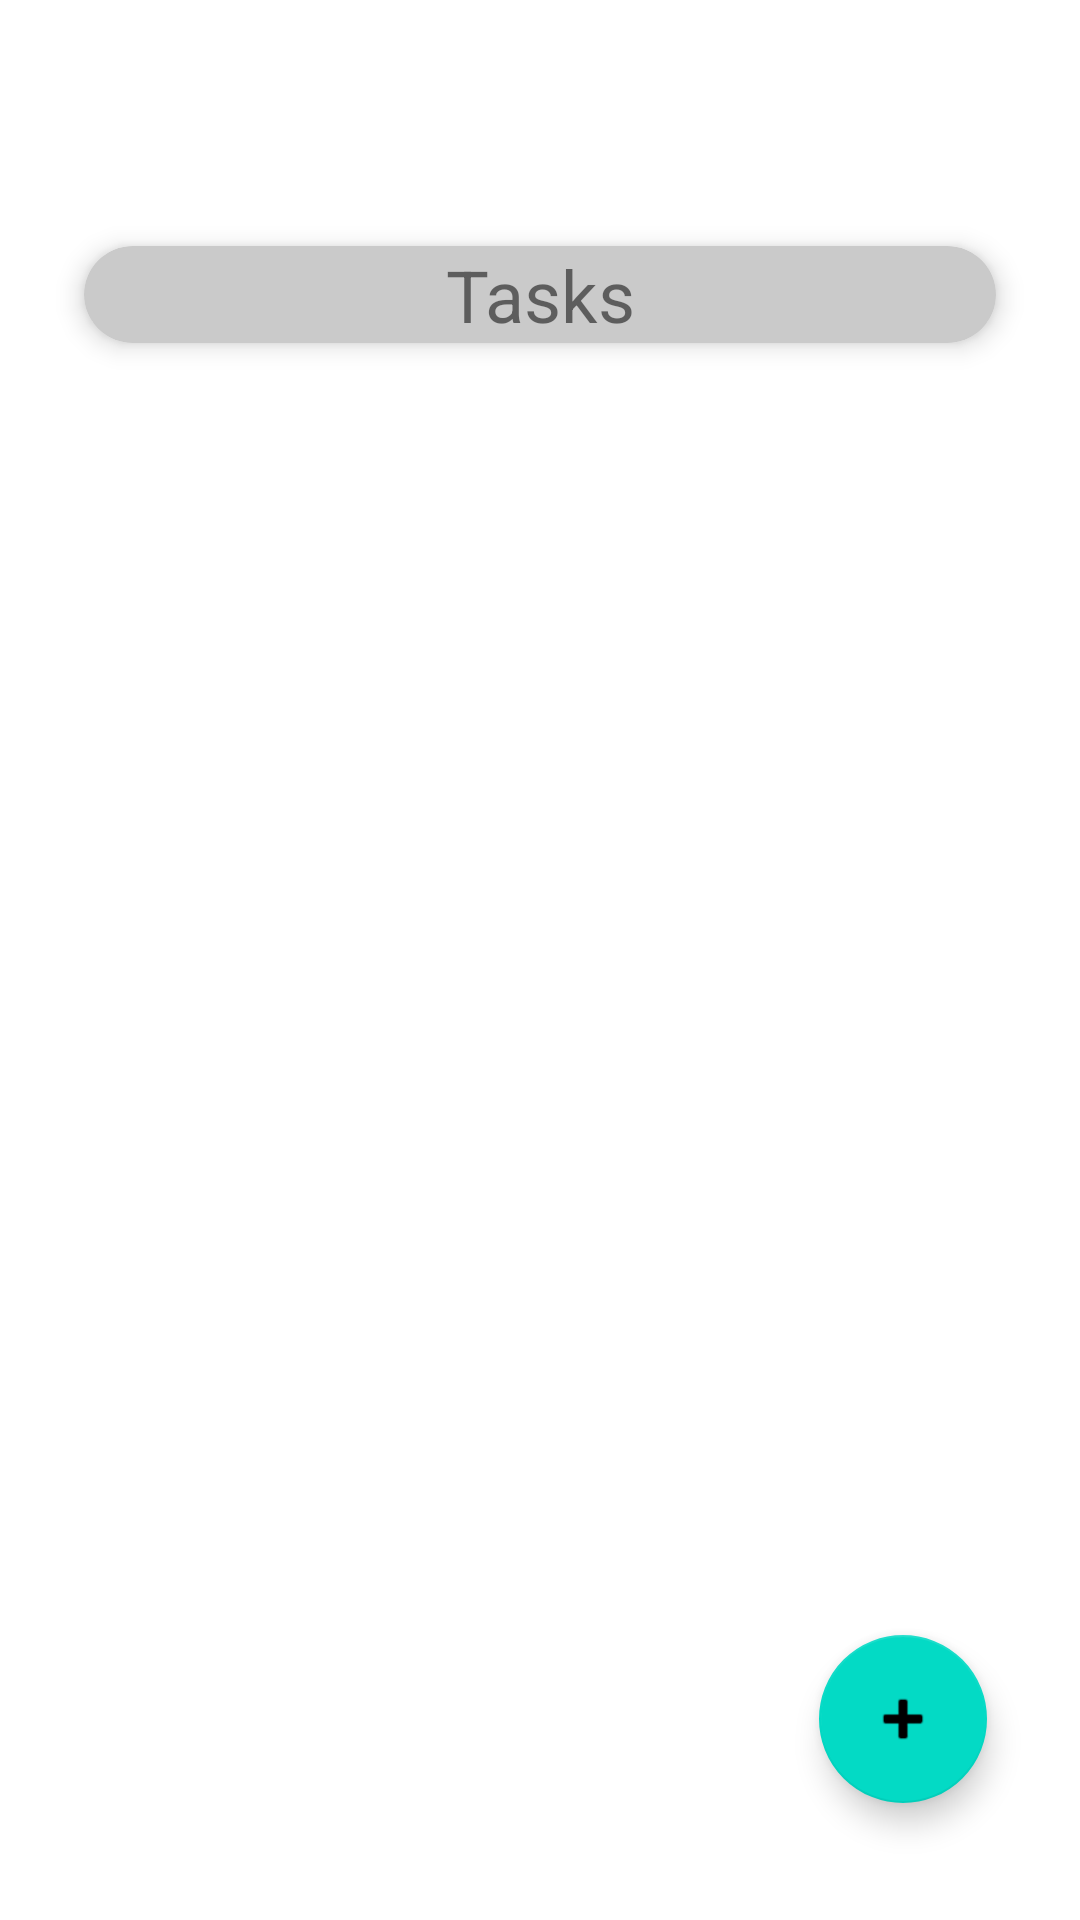

Point at icon controls on the screen. Image size 1080px×1920px, points as [x,y].
add: [903,1719]
